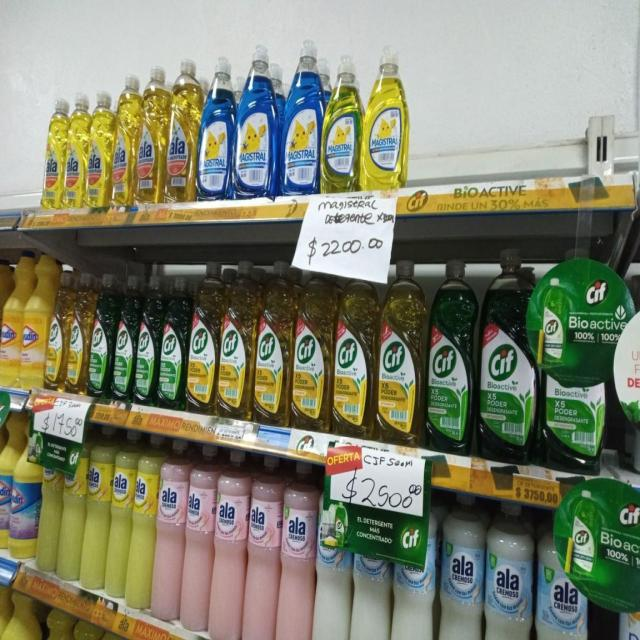ala_conc_amarillo: (167, 56, 197, 203), (138, 62, 166, 205), (112, 71, 137, 208), (87, 88, 111, 209), (64, 90, 86, 210), (42, 95, 64, 209)
ala_crem_amarillo: (129, 436, 154, 612), (83, 429, 108, 593), (108, 434, 130, 602)
ala_crem_blanco: (436, 506, 481, 640), (483, 515, 531, 640)
ala_crem_rosado: (275, 466, 313, 640), (242, 460, 276, 640), (210, 455, 243, 640), (181, 448, 210, 635), (154, 444, 182, 624)
cif_conc_bot_amarilla: (377, 258, 424, 444), (333, 262, 375, 437), (292, 262, 332, 431), (255, 260, 291, 424), (219, 260, 254, 420), (188, 261, 218, 415), (46, 261, 68, 392), (67, 268, 89, 395)
cif_conc_botella_verde: (478, 248, 536, 464), (426, 258, 475, 454), (160, 266, 187, 410), (136, 267, 158, 408), (89, 271, 113, 400), (113, 272, 135, 404)
magistral_con_amarillo: (364, 42, 410, 191), (322, 48, 362, 194)
magistral_con_azul: (234, 40, 278, 198), (281, 35, 322, 196), (198, 53, 234, 201)
